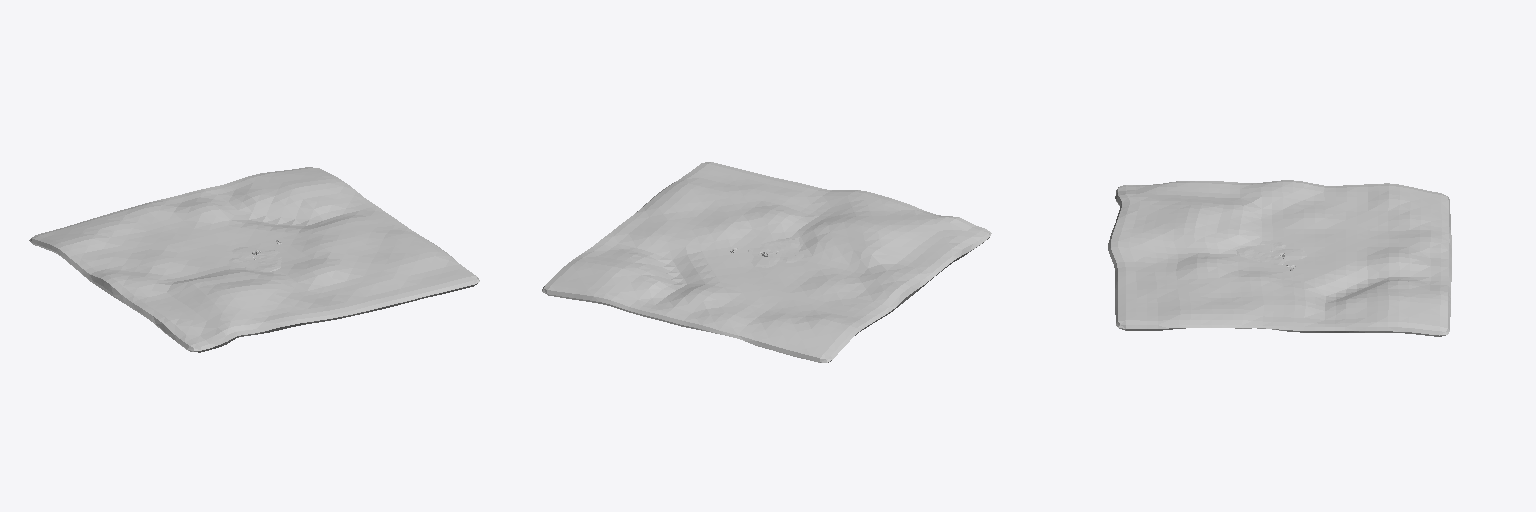
Rendered from village_final.obj.
The picture shows the model from 3 angles: view 1: azimuth 30°, elevation 25°; view 2: azimuth 150°, elevation 25°; view 3: azimuth 270°, elevation 25°; orthographic projection.
Parts seen in each view (by area): view 1: Dunes_Low, Dunes_High; view 2: Dunes_Low, Dunes_High; view 3: Dunes_Low, Dunes_High.
Part boxes in pixels (x1,y1,x2,y2): Dunes_Low: (29, 167, 479, 352); Dunes_High: (227, 247, 281, 271); Dunes_Low: (542, 162, 991, 362); Dunes_High: (748, 238, 803, 267); Dunes_Low: (1108, 180, 1451, 336); Dunes_High: (1236, 239, 1306, 264).
Size of the model in its own units: 504 by 43.29 by 511.